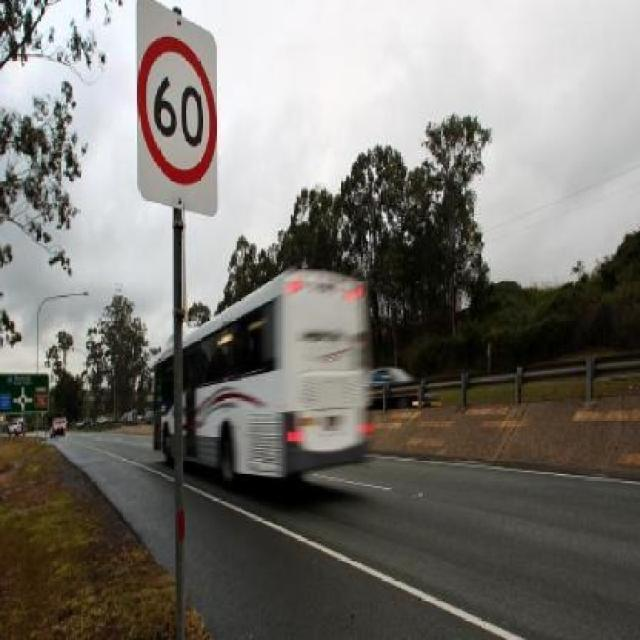forb_speed_over_60: (144, 34, 216, 183)
